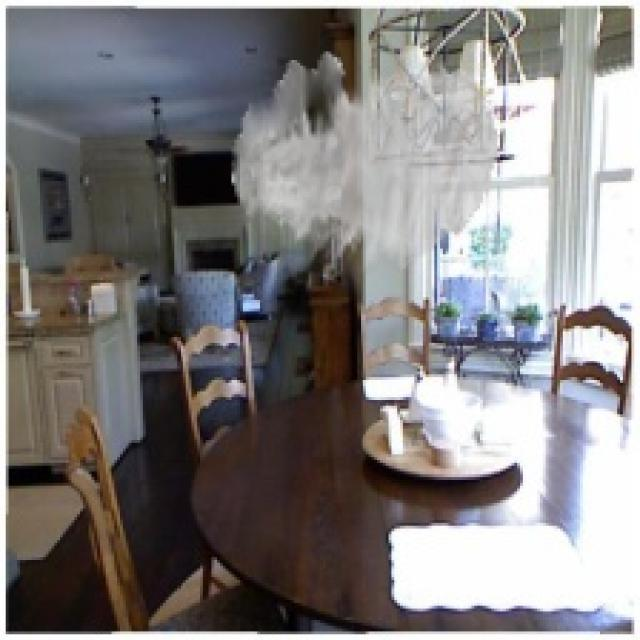Smoke: (232, 52, 497, 274)
